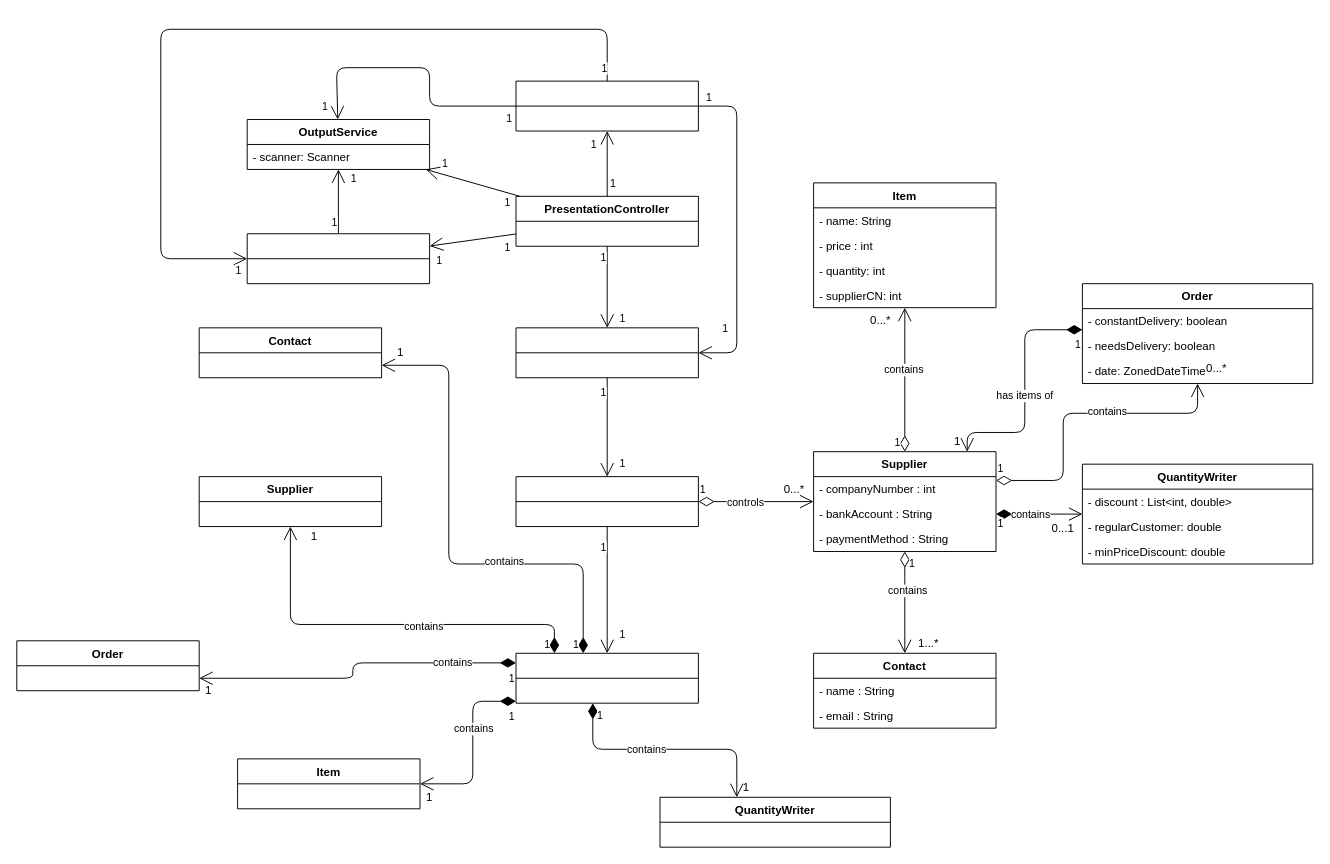
The diagram is 1330 pixels wide and 864 high, and some of its shapes have lost their labels. Each missing label, with the centre of its shape:
"DataController" goes at point 606,677.
"InputService" goes at point 338,258.
"PresentationHandler" goes at point 606,105.
"ServiceController" goes at point 606,352.
"SupplierController" goes at point 606,501.
